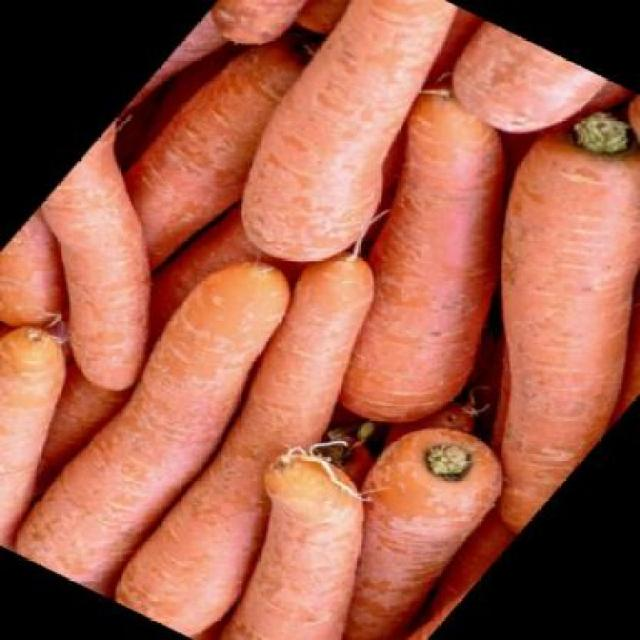carrot: (42, 238, 489, 639), (42, 238, 486, 639), (200, 67, 638, 444), (287, 104, 639, 531), (0, 243, 360, 599), (151, 0, 534, 286), (57, 5, 363, 289), (212, 408, 548, 640), (0, 124, 283, 398), (143, 440, 466, 638), (0, 315, 149, 548), (421, 17, 608, 152), (524, 218, 639, 419), (604, 91, 639, 146)
